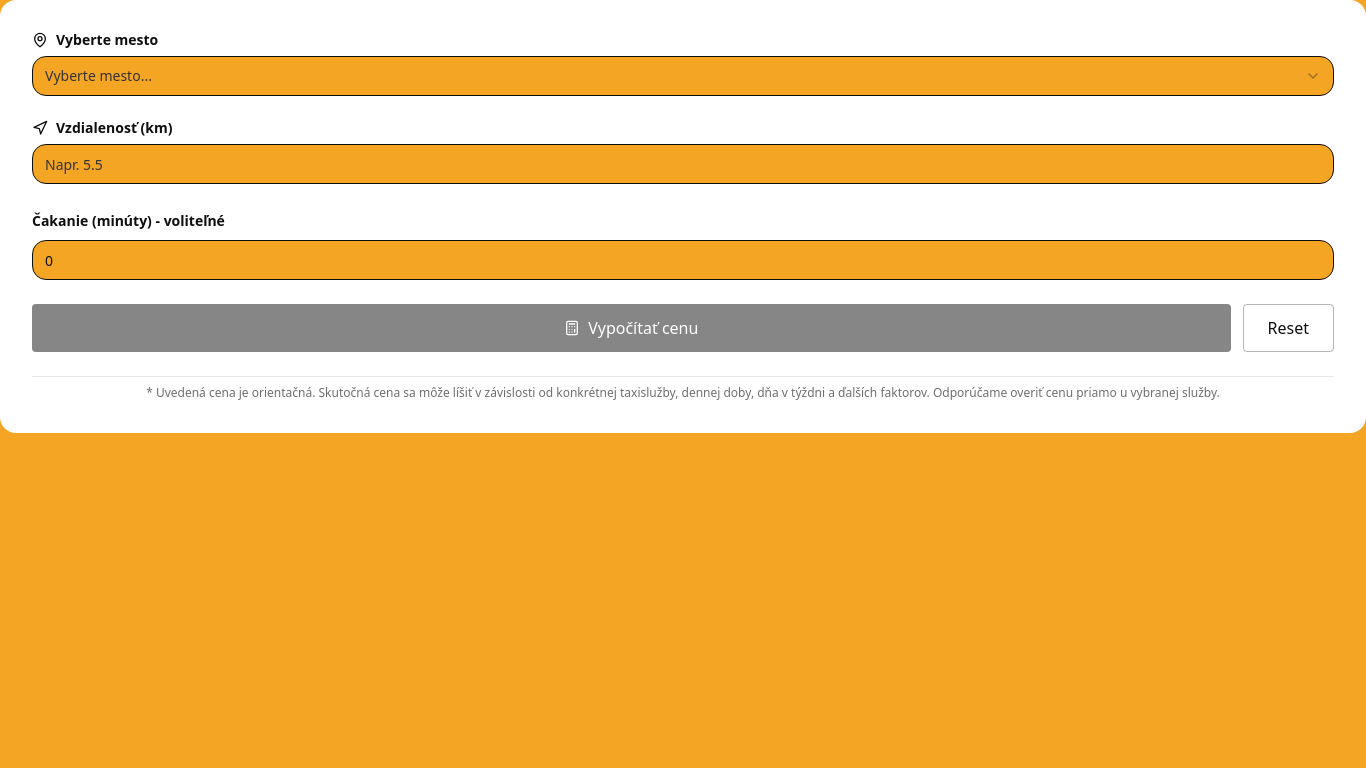
Test: PriceCalculator › Výpočet ceny › zobrazí cenník pre vybrané mesto
Click the dropdown at (98, 76), box [32,56,1334,96]
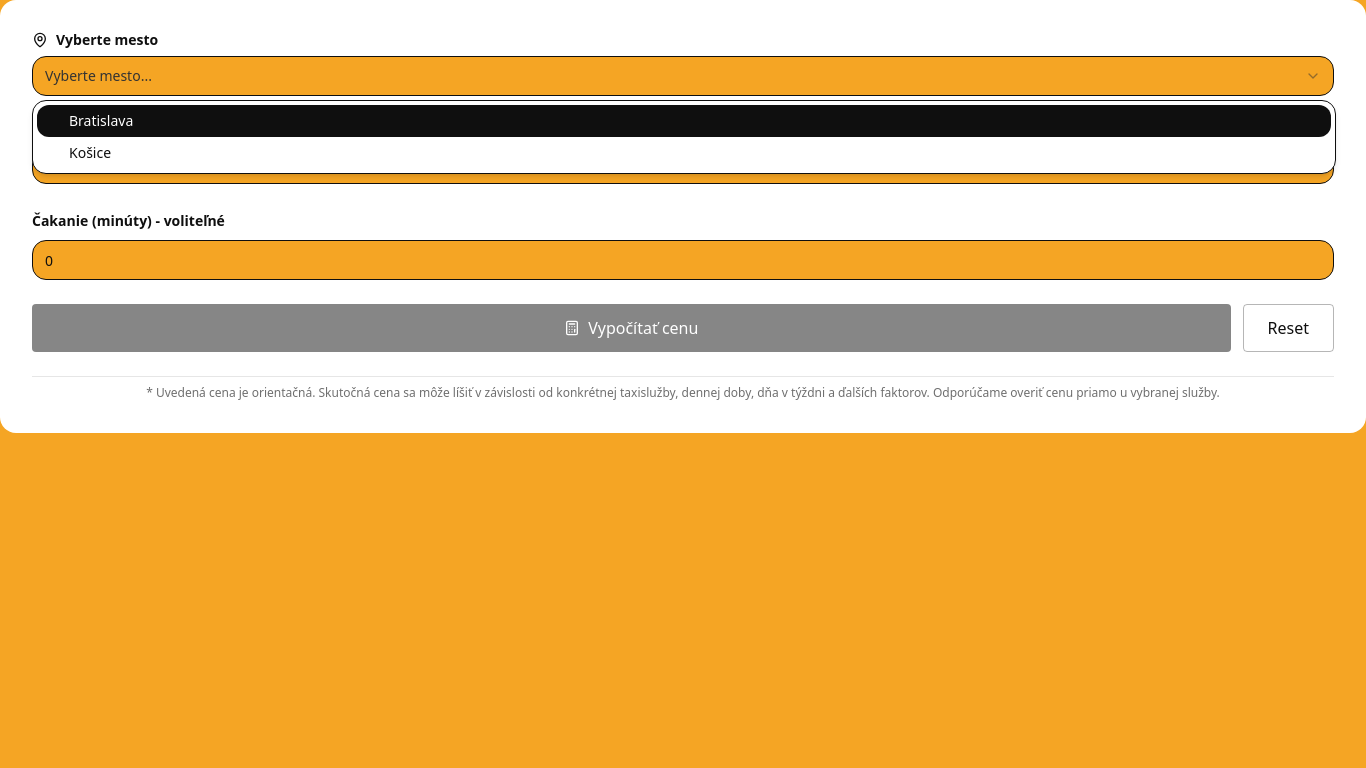
Click the option "Bratislava" at (101, 120), box [37,105,1331,137]
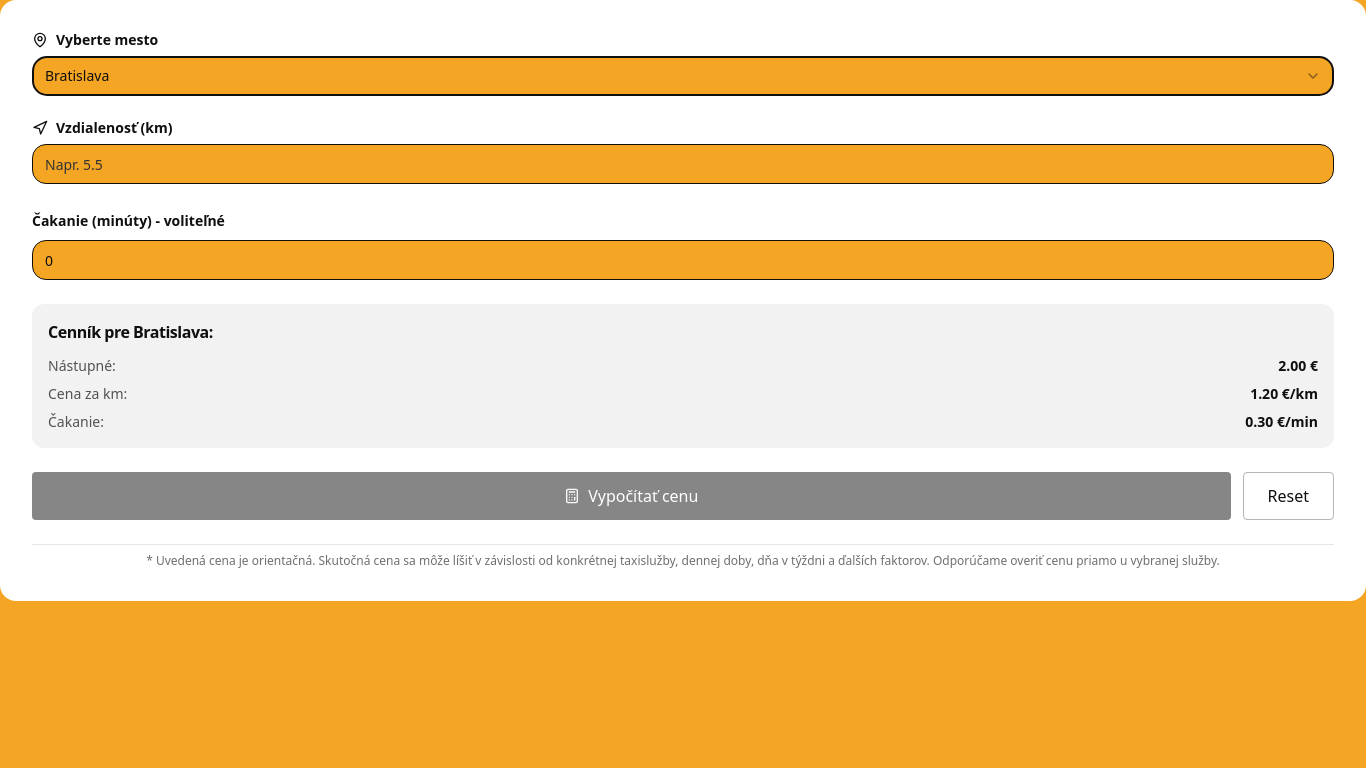
Check: the heading "Cenník pre Bratislava:" is shown, box [48,321,213,343]
Check: the text "2.00 €" is shown, box [1278,356,1318,375]
Check: the text "1.20 €/km" is shown, box [1250,384,1318,403]
